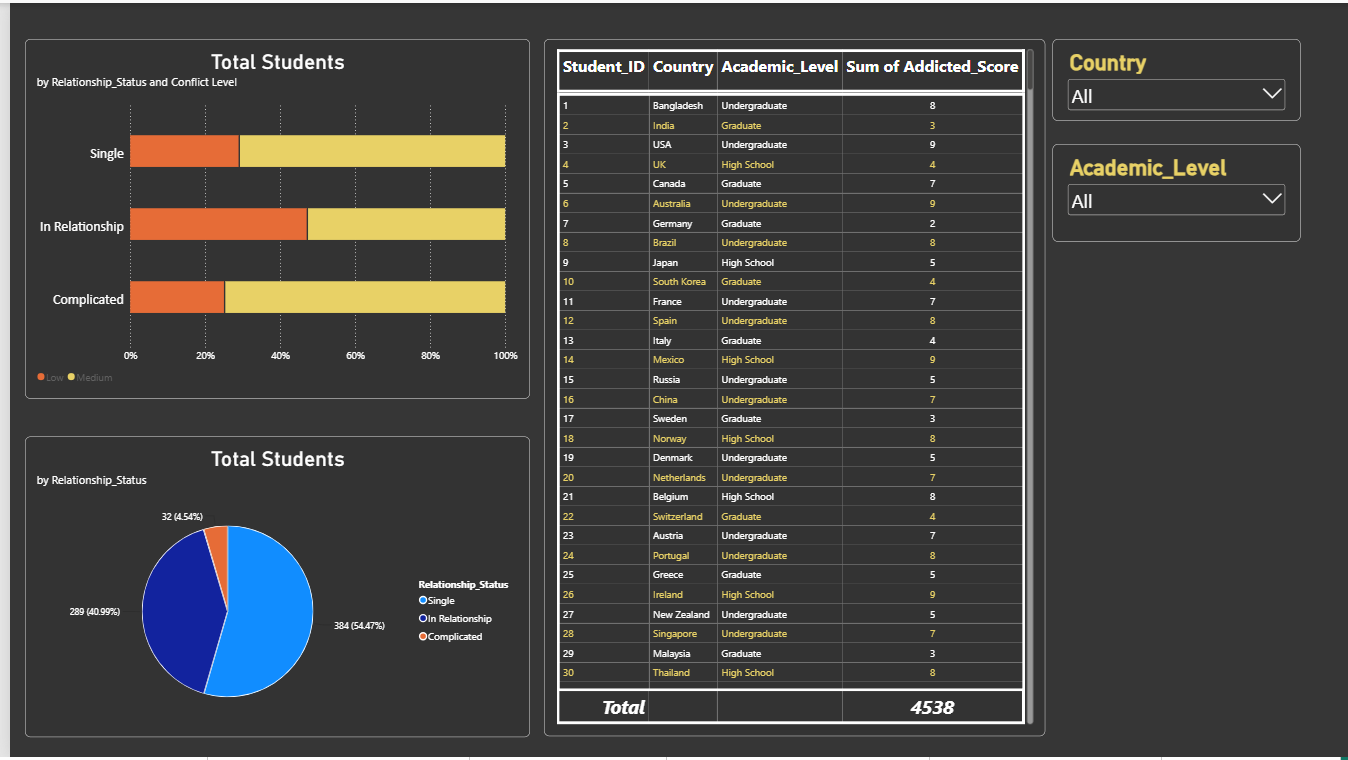

This screenshot's page, from the dashboard's own definition file:
{"tool":"powerbi","page":{"name":"Relationships & Conflicts","canvas":[1920,1080],"ordinal":3},"visuals":[{"type":"hundredPercentStackedBarChart","fields":{"Category":["Student_Details.Relationship_Status"],"Series":["Student_Details.Conflict Level"],"Y":["_Measures.Total Students"]},"box":[22.5,52.5,723.1,515.5],"z":0},{"type":"pieChart","fields":{"Category":["Student_Details.Relationship_Status"],"Y":["_Measures.Total Students"]},"box":[22.5,620.5,723.1,430.4],"z":1000},{"type":"tableEx","fields":{"Values":["Student_Details.Student_ID","Student_Details.Country","Student_Details.Academic_Level","Sum(Student_Details.Addicted_Score)"]},"box":[765.7,52.5,718.1,998.4],"z":2000},{"type":"slicer","fields":{"Values":["Student_Details.Country"]},"box":[1493.8,52.5,355.3,117.6],"z":3000},{"type":"slicer","fields":{"Values":["Student_Details.Academic_Level"]},"box":[1493.8,202.7,355.3,140.1],"z":4000}]}

Visuals, with their boxes in screenshot pixels (x1, y1, x2, y2), scaled from the page's 1920x1080 canvas onto the 1348x760 screenshot:
hundredPercentStackedBarChart - Student_Details.Relationship_Status x Student_Details.Conflict Level: bbox(16, 37, 523, 400)
pieChart - Student_Details.Relationship_Status x _Measures.Total Students: bbox(16, 437, 523, 740)
tableEx - Student_Details.Student_ID x Student_Details.Country: bbox(538, 37, 1042, 740)
slicer - Student_Details.Country: bbox(1049, 37, 1298, 120)
slicer - Student_Details.Academic_Level: bbox(1049, 143, 1298, 241)
